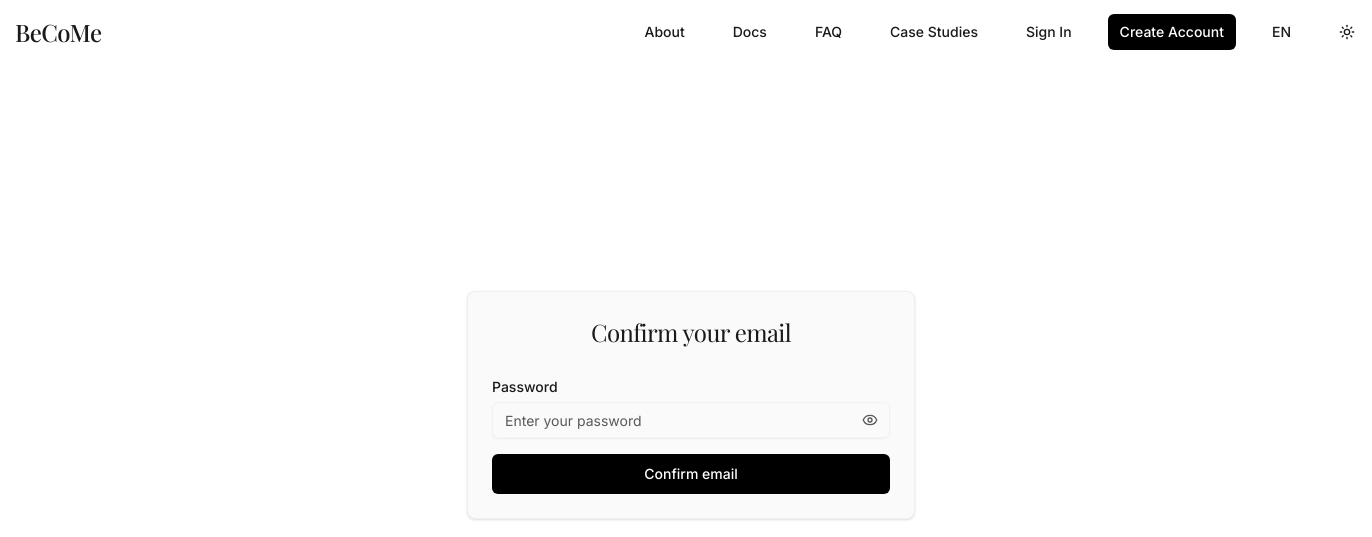
it: VerifyEmail › shows a loading state during submission
Type "CorrectHorse123!" into the password field with placeholder "Enter your password".
click(691, 420); type("CorrectHorse123!")  # box [492, 402, 890, 438]
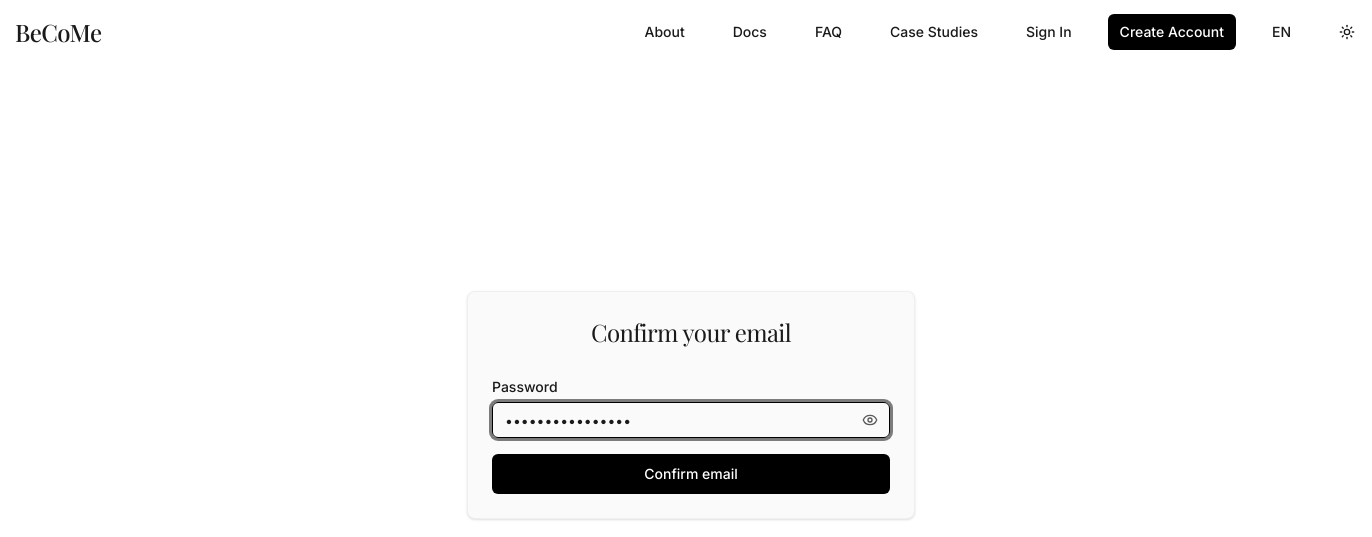
Click the button "Confirm email".
click(691, 474)  # box [492, 454, 890, 494]
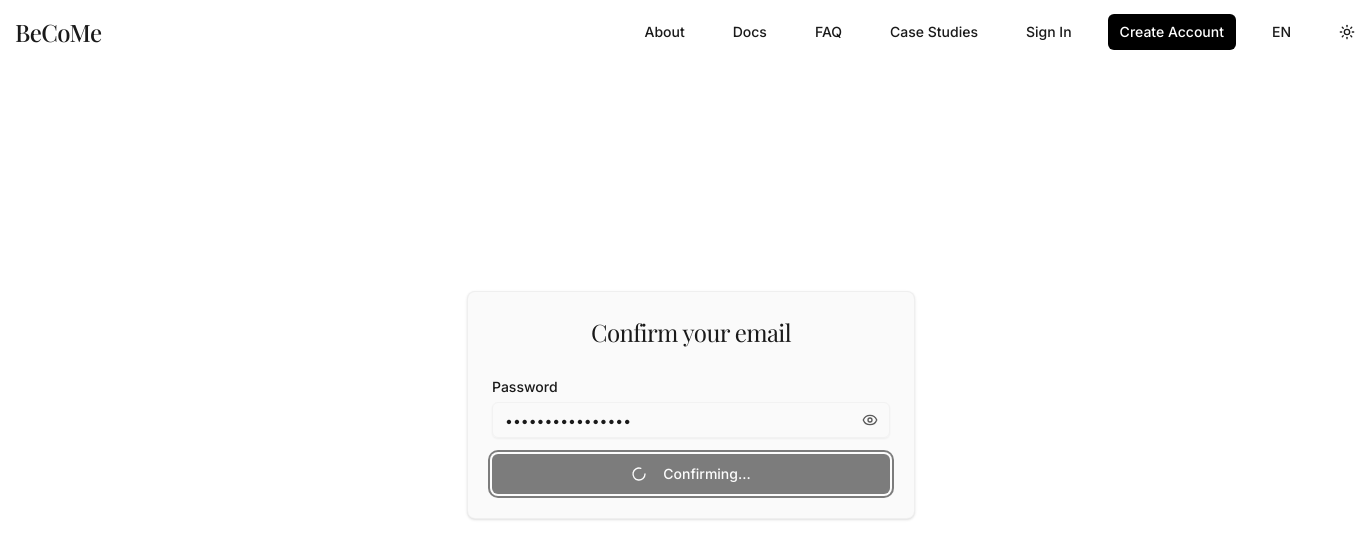
Expected: the button "Confirming..." is shown, [492, 454, 890, 494]
